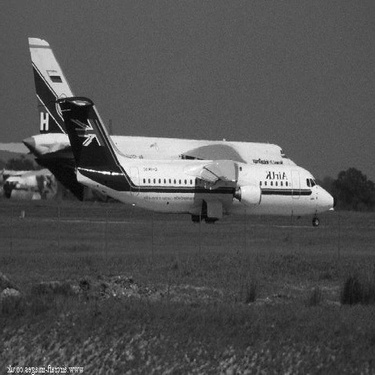airplane: (1, 90, 338, 230), (10, 33, 300, 171)
